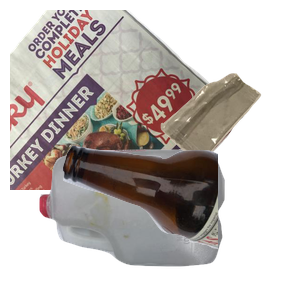glass: (60, 142, 300, 300)
paper: (10, 10, 247, 190)
plastic: (37, 147, 254, 300)
trash: (158, 71, 300, 227)
